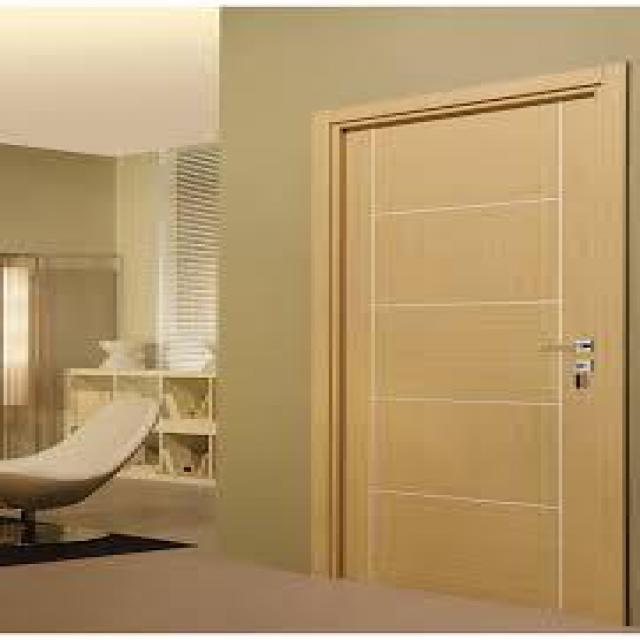close: (286, 55, 636, 638)
